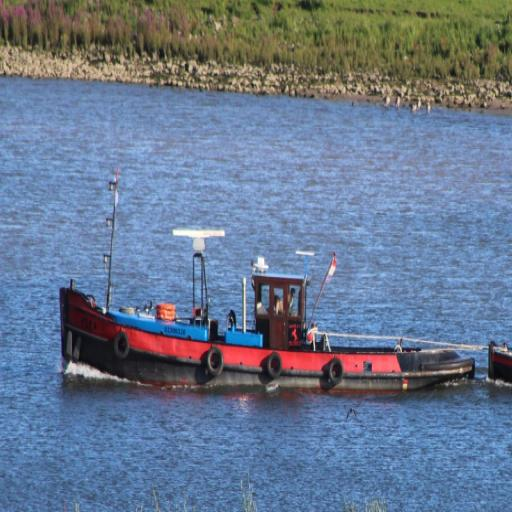tugboat: (58, 224, 479, 414)
